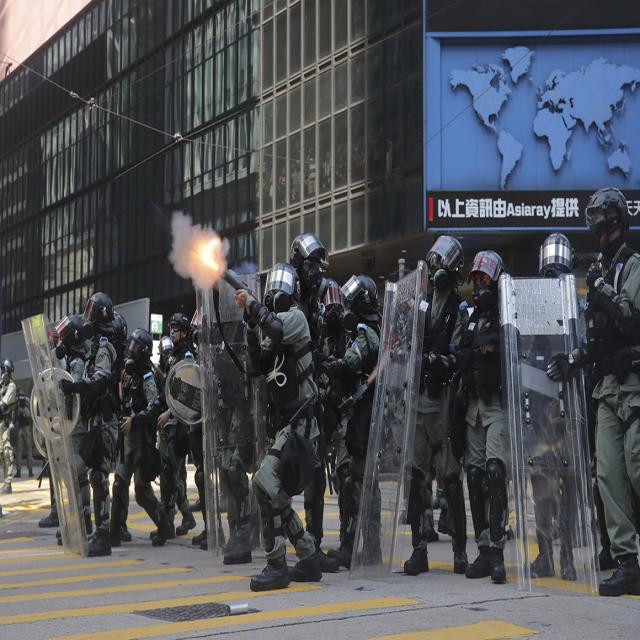police: (412, 211, 536, 602), (201, 224, 327, 594), (290, 222, 398, 593), (558, 174, 640, 587), (0, 274, 86, 566), (158, 290, 227, 560), (108, 282, 164, 554), (69, 276, 116, 568)
